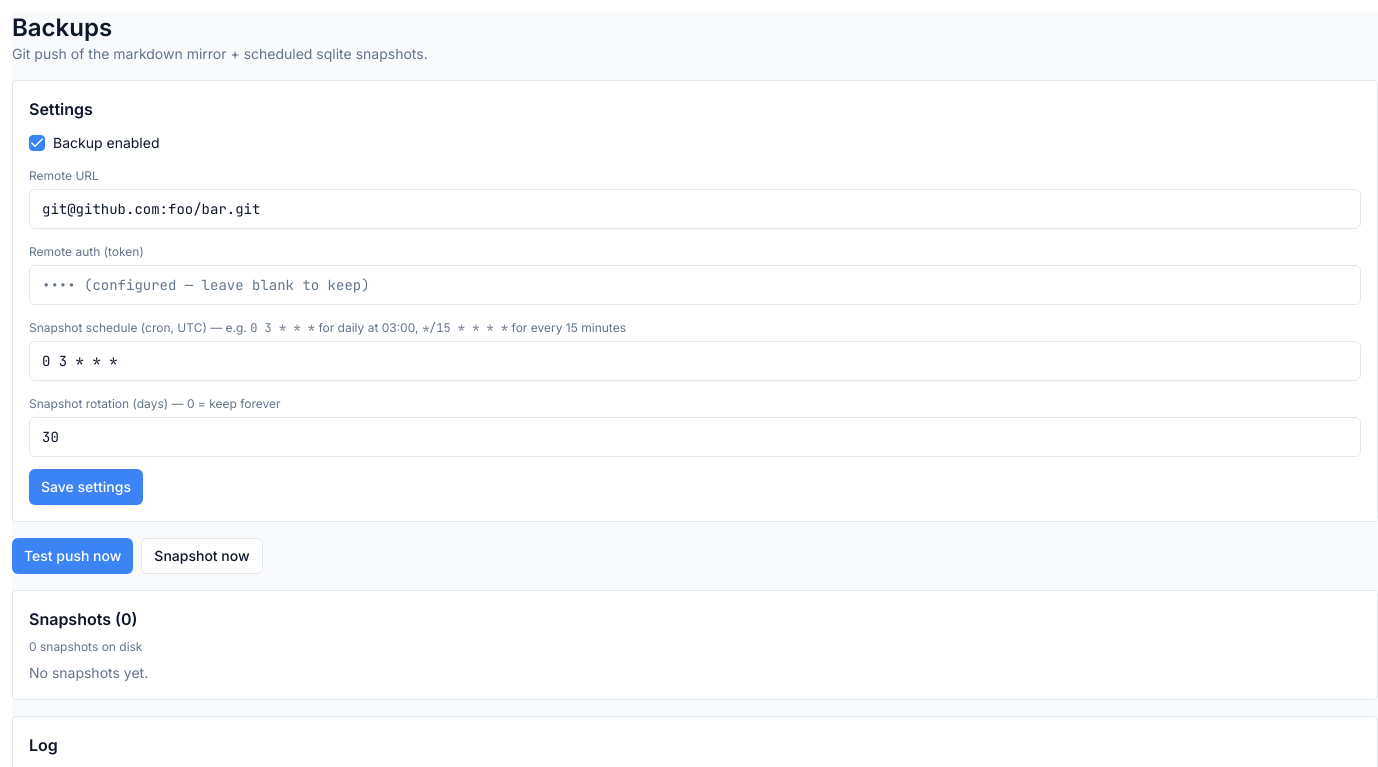
it: BackupsSettingsPage › Save settings surfaces a cron validation error from the server
The width and height of the screenshot is (1378, 767).
Type "60 * * * *" into the field with test id "settings-snapshot-cron".
click(695, 361); type("60 * * * *")  # box [29,341,1361,381]
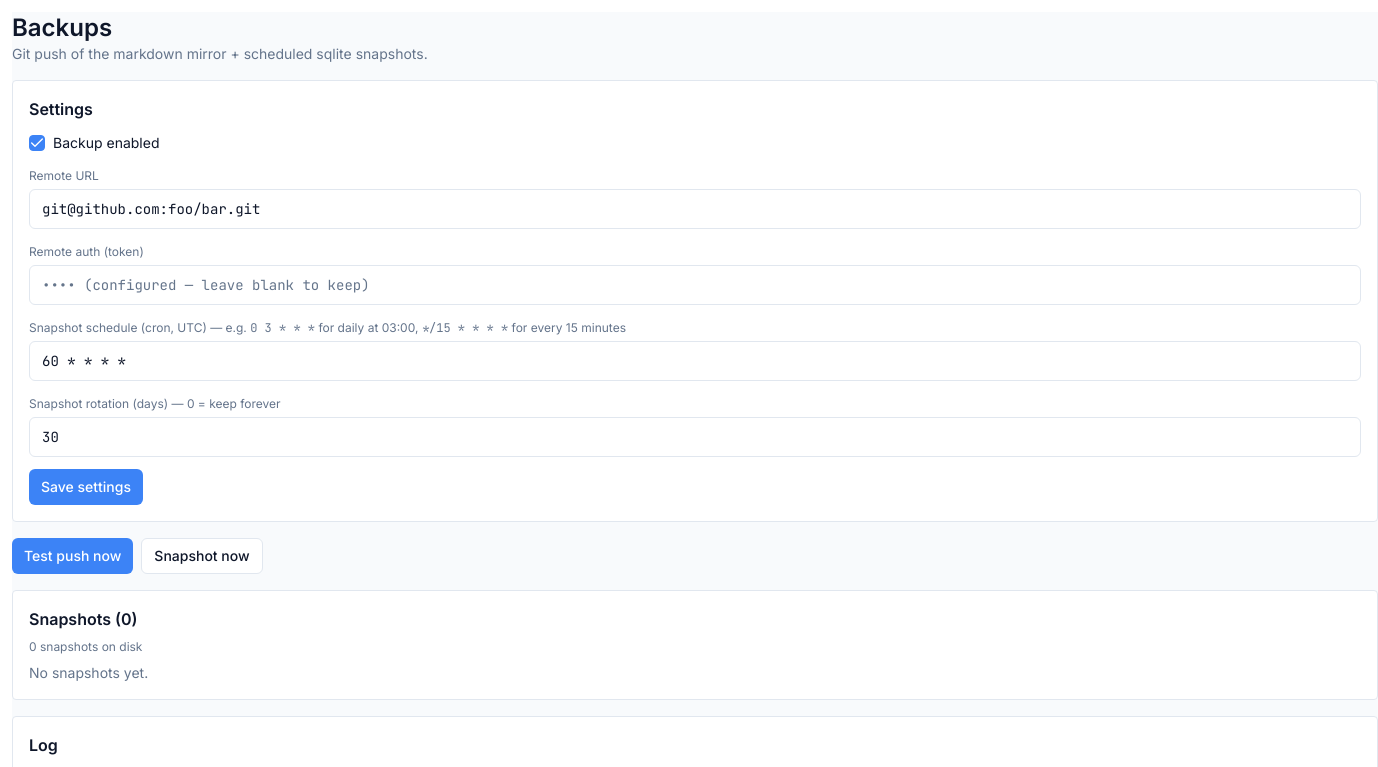
Click the button with test id "settings-save".
click(86, 487)  # box [29,469,143,505]
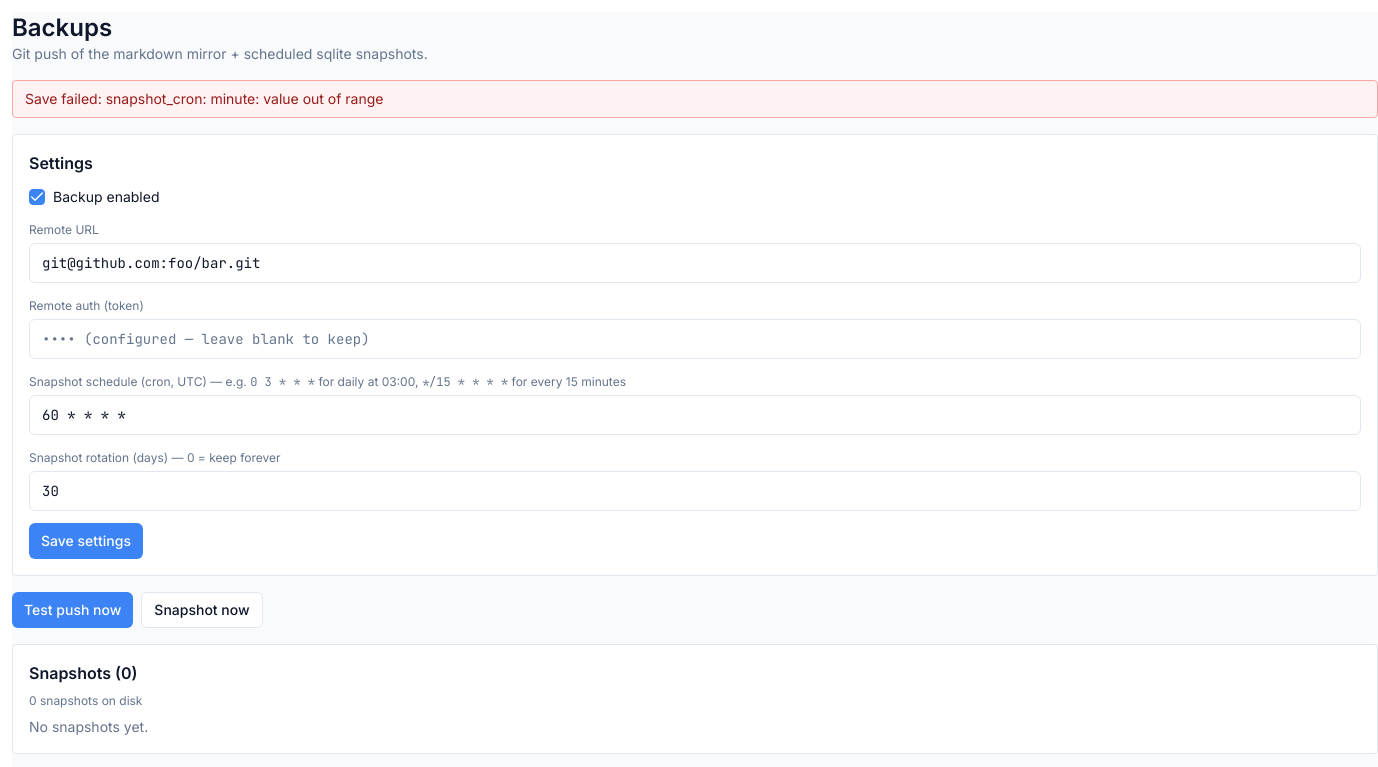
Expected: the text "Save failed: snapshot_cron: minute: value out of range" is shown, [12,80,1377,118]
